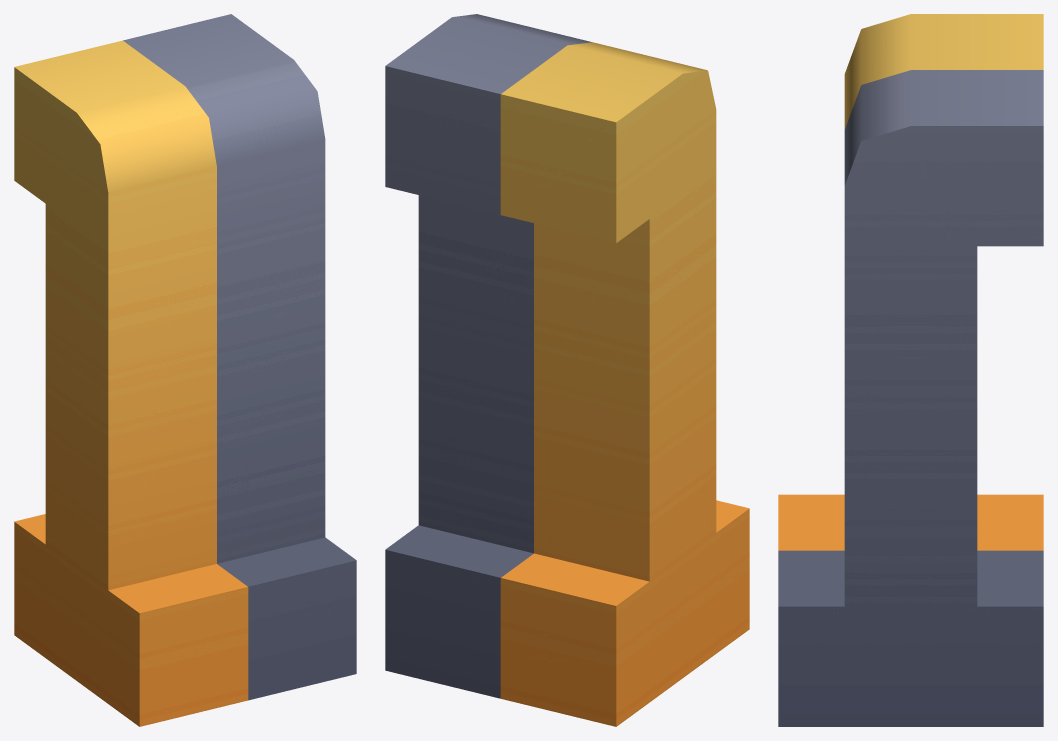
Rendered from number-double-1.glb.
3 renders of one model, left to right at view 1: azimuth 30°, elevation 25°; view 2: azimuth 150°, elevation 25°; view 3: azimuth 270°, elevation 25°, orthographic. The views are drawn at different scales.
Visible parts, largest first — view 1: number-double-1; view 2: number-double-1; view 3: number-double-1.
Boxes of the visible parts, left/top/right/bottom form: number-double-1: left=14, top=14, right=356, bottom=726; number-double-1: left=385, top=14, right=749, bottom=726; number-double-1: left=778, top=14, right=1043, bottom=726.
Size of the model in its own units: 0.2 by 0.5 by 0.2.
Materials: 1 (1 with a texture image).
